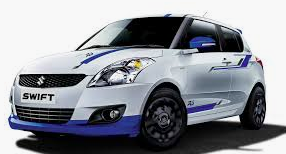car: (6, 11, 271, 153)
